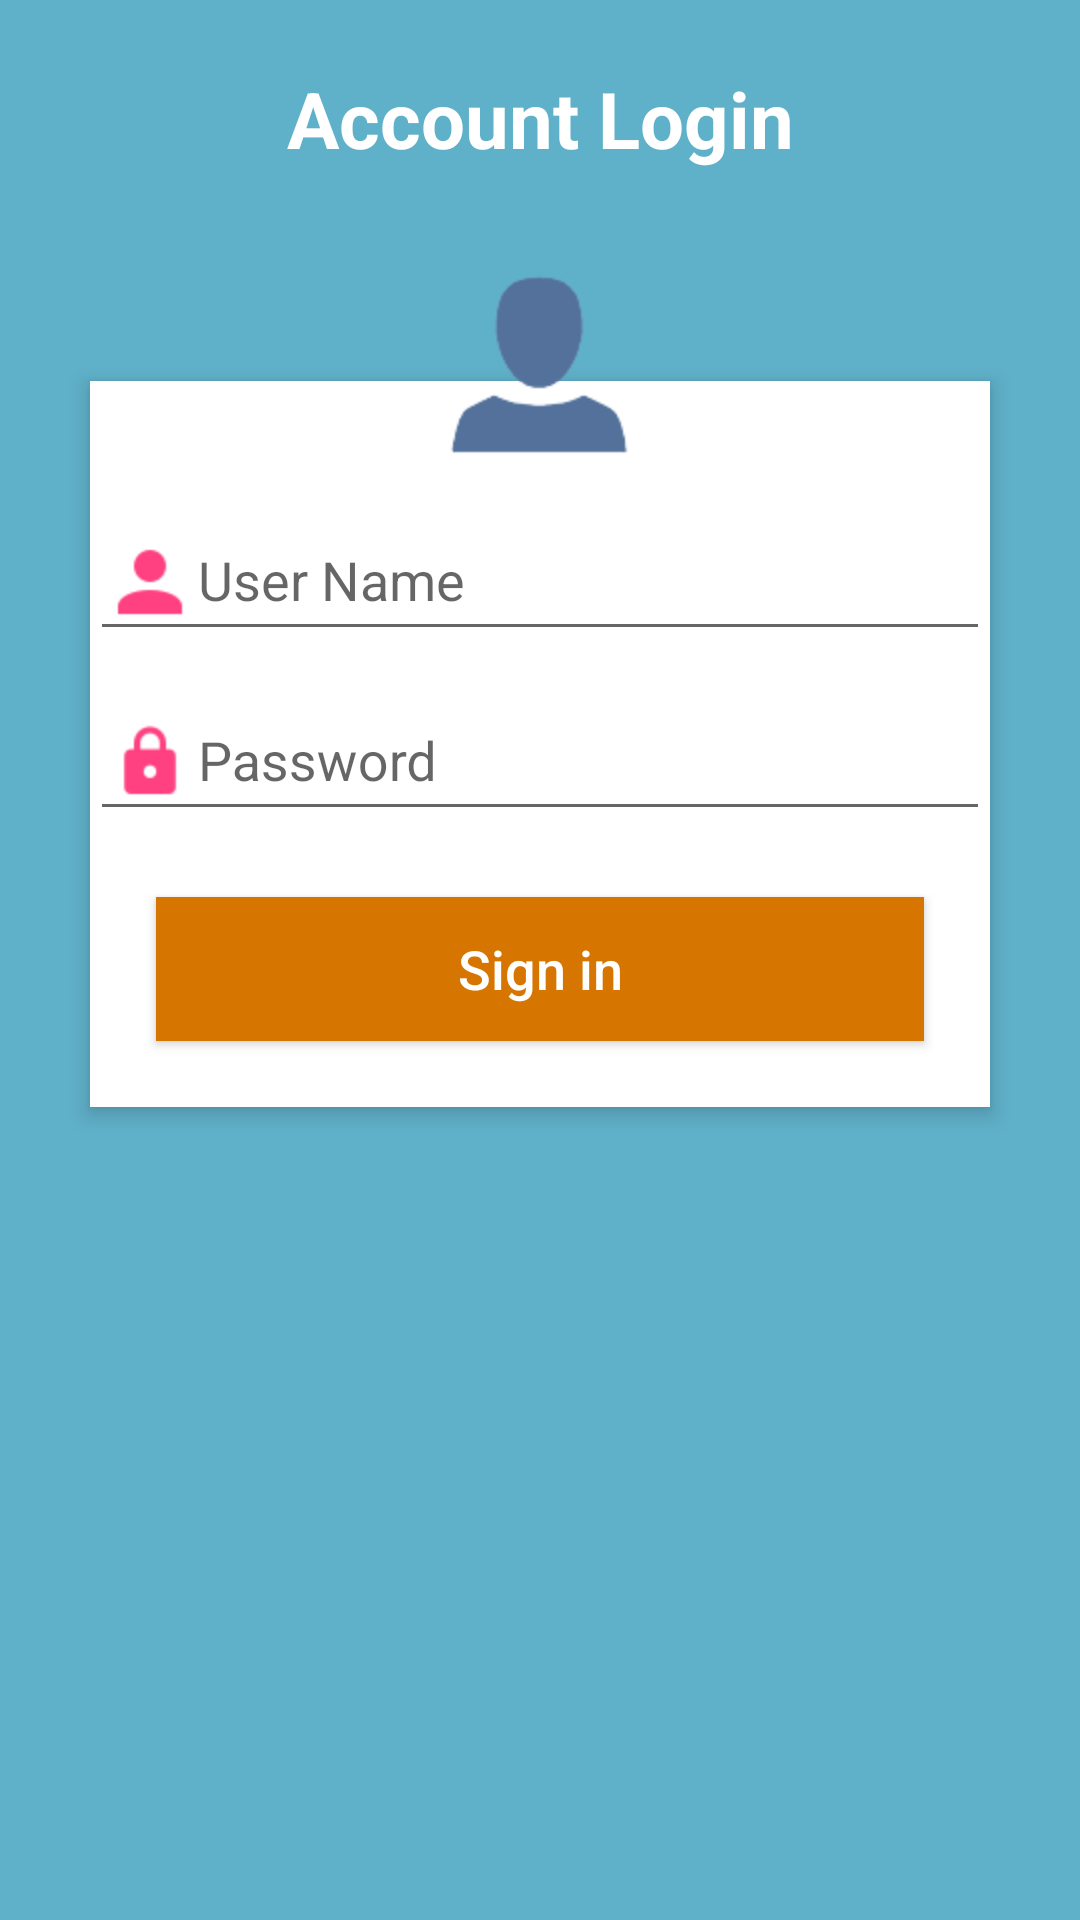

Where to tap for icons on this 1080w x 1920h app screen, as [x,y]:
profile: [540,369]
